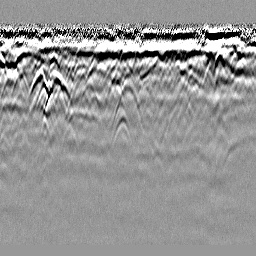cavity: (110, 77, 144, 131)
